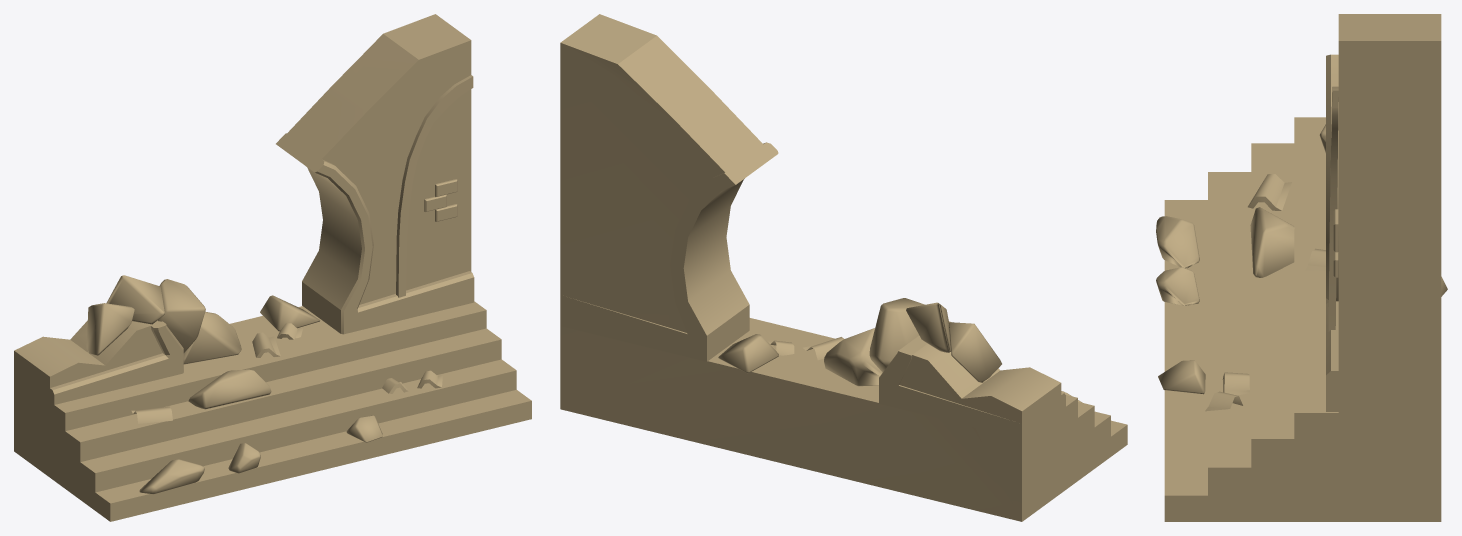
The model's file is Arches-Broken-2.fbx.
3 views of the same model, side by side, from view 1: azimuth 30°, elevation 25°; view 2: azimuth 150°, elevation 25°; view 3: azimuth 270°, elevation 25° (orthographic). The views are drawn at different scales.
Parts seen in each view (by area): view 1: Arches-Broken-2; view 2: Arches-Broken-2; view 3: Arches-Broken-2.
Part boxes in pixels (x1,y1,x2,y2): Arches-Broken-2: (14, 14, 531, 521); Arches-Broken-2: (560, 14, 1127, 521); Arches-Broken-2: (1156, 14, 1447, 521).
Bounding box in the file's own units: 930 × 706 × 388.
